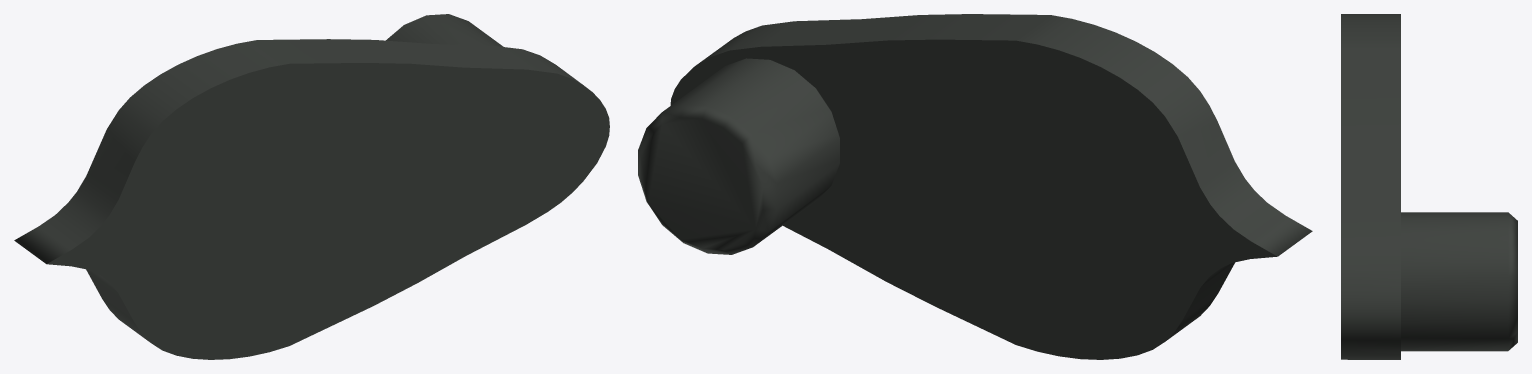
The model's file is 07_Selector_UVReady.fbx.
3 views of the same model, side by side, from view 1: azimuth 30°, elevation 25°; view 2: azimuth 150°, elevation 25°; view 3: azimuth 270°, elevation 25° (orthographic). The views are drawn at different scales.
Parts seen in each view (by area): view 1: 07_Selector; view 2: 07_Selector; view 3: 07_Selector.
Part boxes in pixels (left/top/right/bottom): 07_Selector: left=14, top=14, right=609, bottom=359; 07_Selector: left=638, top=14, right=1312, bottom=359; 07_Selector: left=1341, top=14, right=1517, bottom=359.
Bounding box in the file's own units: 0.038 × 0.0184 × 0.0112.
1 material, 1 textured.
